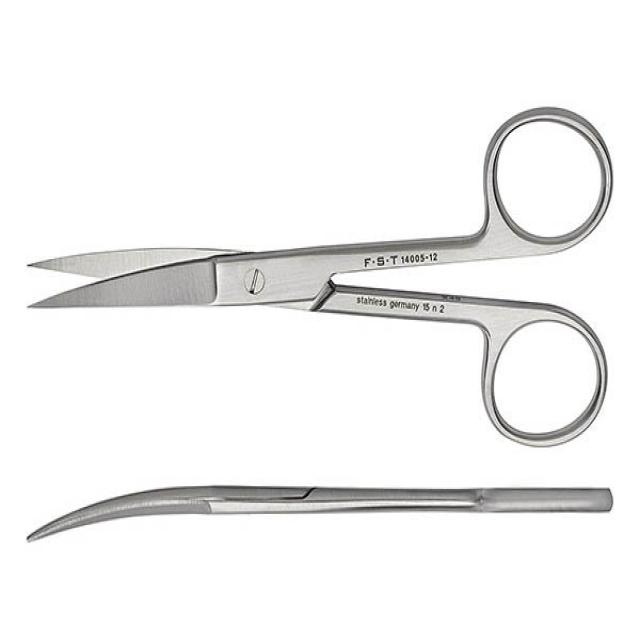scissor: (19, 106, 619, 454)
